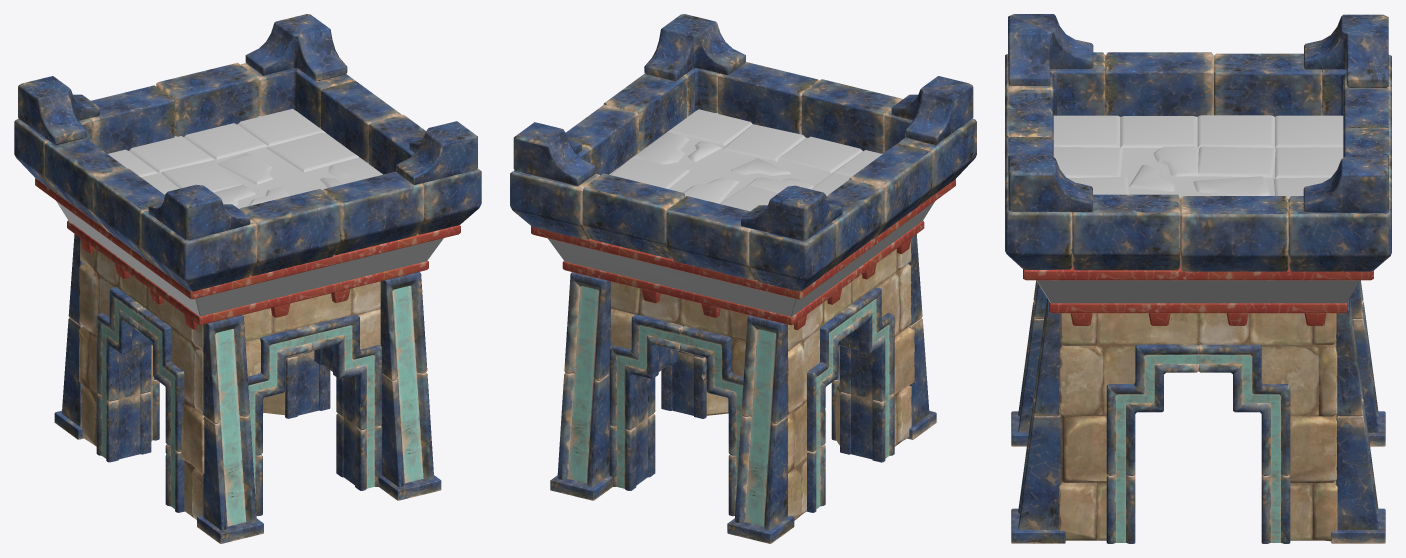
3 views of the same model, side by side, from view 1: azimuth 30°, elevation 25°; view 2: azimuth 150°, elevation 25°; view 3: azimuth 270°, elevation 25° (orthographic). The views are drawn at different scales.
Visible parts, largest first — view 1: SM_Menaphite_Ruins_Tower_01_LOD0; view 2: SM_Menaphite_Ruins_Tower_01_LOD0; view 3: SM_Menaphite_Ruins_Tower_01_LOD0.
Boxes of the visible parts, x1,y1,x2,y2 form: SM_Menaphite_Ruins_Tower_01_LOD0: (14, 14, 481, 543); SM_Menaphite_Ruins_Tower_01_LOD0: (510, 14, 976, 543); SM_Menaphite_Ruins_Tower_01_LOD0: (1005, 14, 1391, 543).
Bounding box in the file's own units: 7.14 × 7.96 × 7.14.
